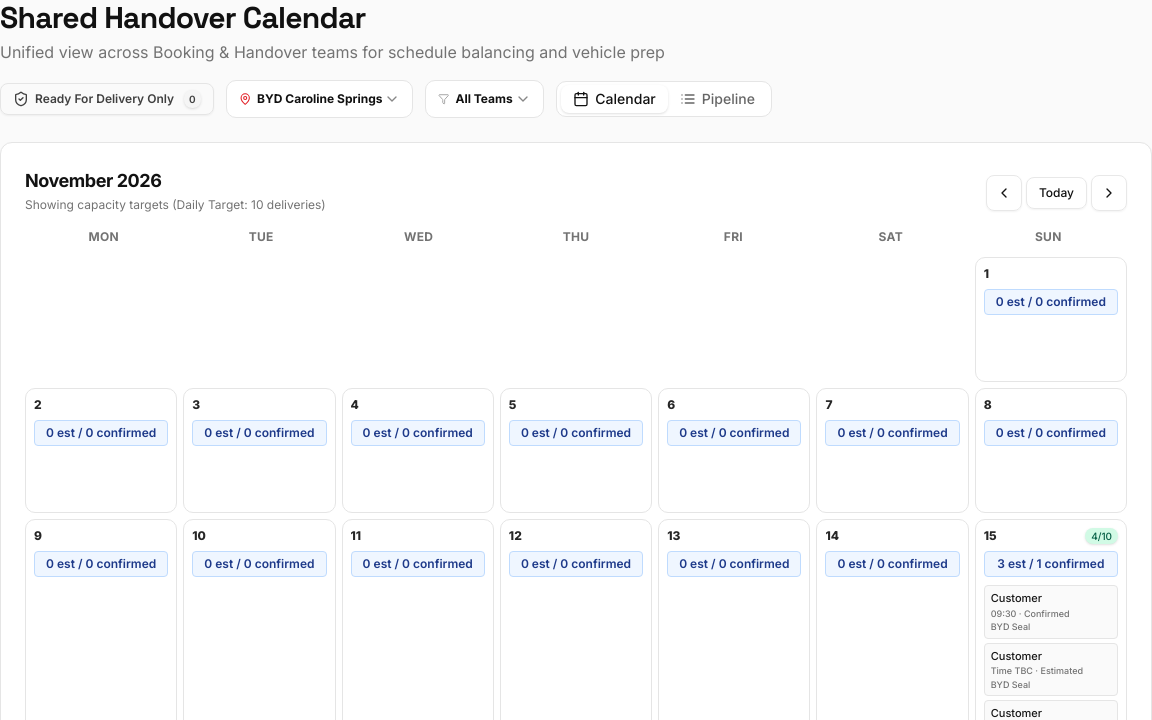
Test: calendar summary opens every customer, including hidden fourth delivery
Click the button "3 est / 1 confirmed": (1051, 564) [984,551,1118,577]
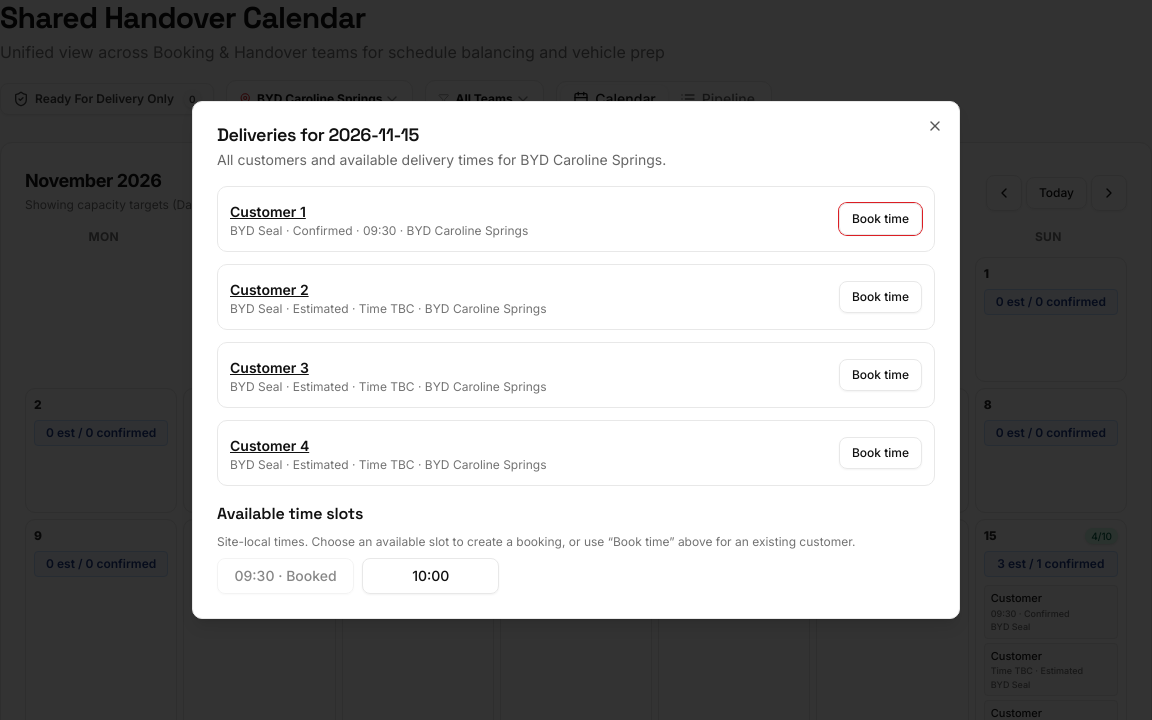
Expected: the dialog shows "Customer 4", [230,437,309,454]
Expected: the dialog shows "Confirmed", [293,223,353,238]
Expected: the button with aria-label "09:30 booked" is disabled, [217,558,354,594]
